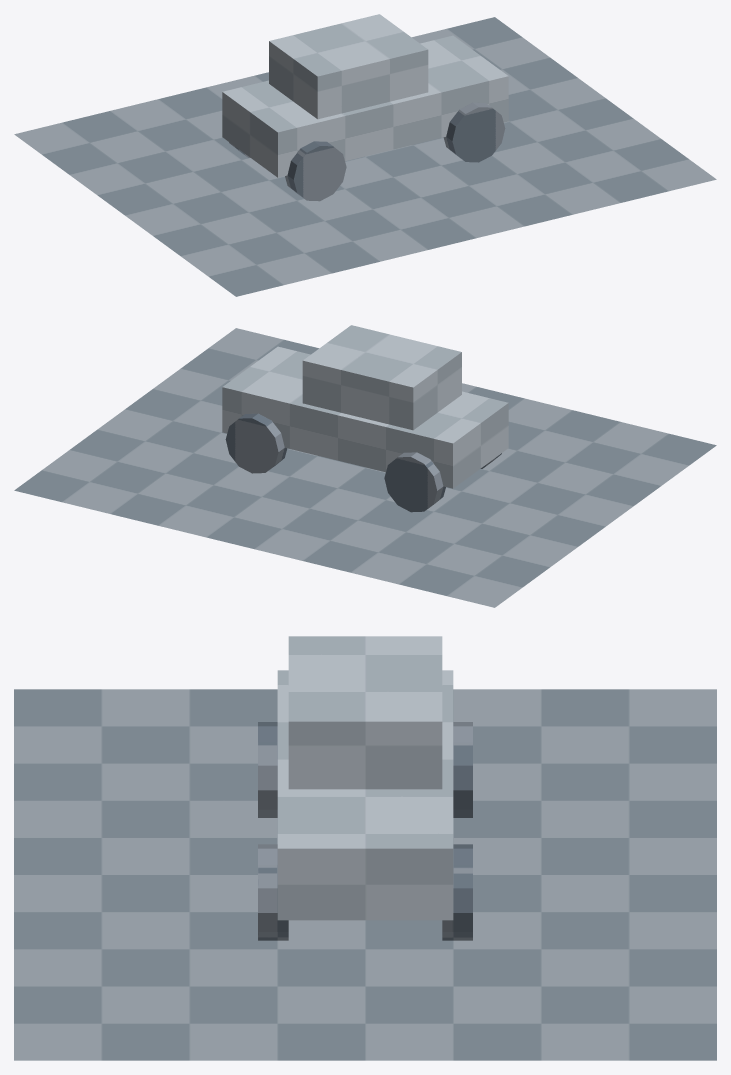
Rendered from result.glb.
3 renders of one model, top to bottom at view 1: azimuth 30°, elevation 25°; view 2: azimuth 150°, elevation 25°; view 3: azimuth 270°, elevation 25°, orthographic. The views are drawn at different scales.
Visible parts, largest first — view 1: Viewer baked procedural surfaces; view 2: Viewer baked procedural surfaces; view 3: Viewer baked procedural surfaces.
Boxes of the visible parts, box(x1,y1,x2,y2) form: Viewer baked procedural surfaces: box(14, 14, 716, 296); Viewer baked procedural surfaces: box(14, 325, 716, 607); Viewer baked procedural surfaces: box(14, 636, 716, 1060).
Size of the model in its own units: 10 by 2.3 by 8.
3 materials, 3 textured.
